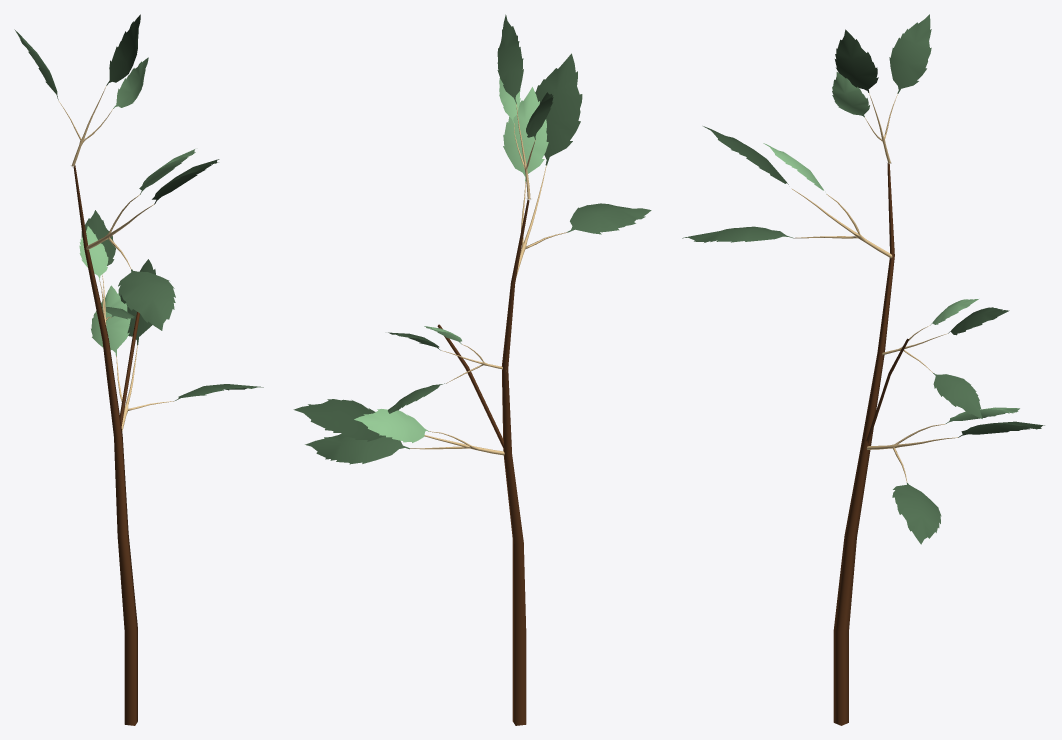
File: Tree6.fbx
3 renders of one model, left to right at view 1: azimuth 30°, elevation 25°; view 2: azimuth 150°, elevation 25°; view 3: azimuth 270°, elevation 25°, orthographic.
Parts seen in each view (by area): view 1: Árbol.002, Hojas|tree|Dupli|, Hojas|tree|Dupli|1, Hojas|tree|Dupli|2, Hojas|tree|Dupli|3; view 2: Hojas|tree|Dupli|, Hojas|tree|Dupli|2, Árbol.002, Hojas|tree|Dupli|1, Hojas|tree|Dupli|3; view 3: Árbol.002, Hojas|tree|Dupli|1, Hojas|tree|Dupli|2, Hojas|tree|Dupli|, Hojas|tree|Dupli|3.
Part boxes in pixels (x1,y1,x2,y2): Árbol.002: (73, 165, 139, 725); Hojas|tree|Dupli|: (86, 149, 219, 330); Hojas|tree|Dupli|1: (14, 14, 148, 166); Hojas|tree|Dupli|2: (91, 259, 263, 431); Hojas|tree|Dupli|3: (79, 210, 134, 325); Hojas|tree|Dupli|: (503, 53, 651, 276); Hojas|tree|Dupli|2: (293, 399, 504, 464); Árbol.002: (437, 199, 529, 725); Hojas|tree|Dupli|1: (497, 14, 553, 199); Hojas|tree|Dupli|3: (388, 326, 502, 413); Árbol.002: (833, 163, 908, 725); Hojas|tree|Dupli|1: (832, 14, 931, 163); Hojas|tree|Dupli|2: (866, 407, 1044, 544); Hojas|tree|Dupli|: (682, 126, 892, 258); Hojas|tree|Dupli|3: (882, 299, 1009, 418).
Size of the model in its own units: 92.19 by 252 by 120.
